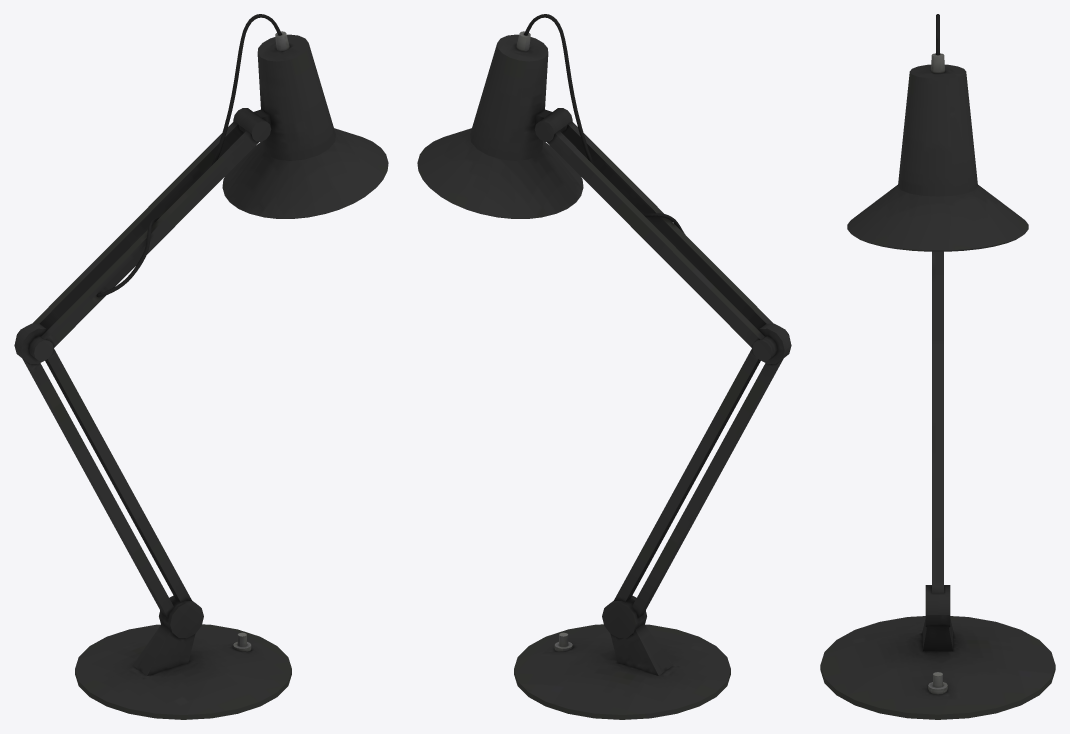
The model's file is desk-lamp.glb.
3 renders of one model, left to right at view 1: azimuth 30°, elevation 25°; view 2: azimuth 150°, elevation 25°; view 3: azimuth 270°, elevation 25°, orthographic. The views are drawn at different scales.
Visible parts, largest first — view 1: lamp_a_0; view 2: lamp_a_0; view 3: lamp_a_0.
Boxes of the visible parts, bbox=[...] form: lamp_a_0: bbox=[14, 14, 388, 719]; lamp_a_0: bbox=[417, 14, 791, 719]; lamp_a_0: bbox=[820, 14, 1055, 719].
Bounding box in the file's own units: 0.2636 × 0.45 × 0.1381.
1 material, 1 textured.
